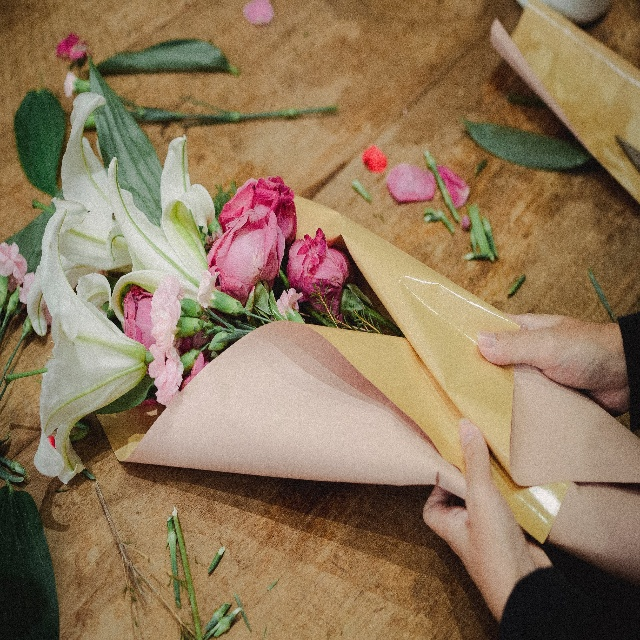Sin_guantes: (421, 411, 539, 619), (476, 301, 628, 415)
